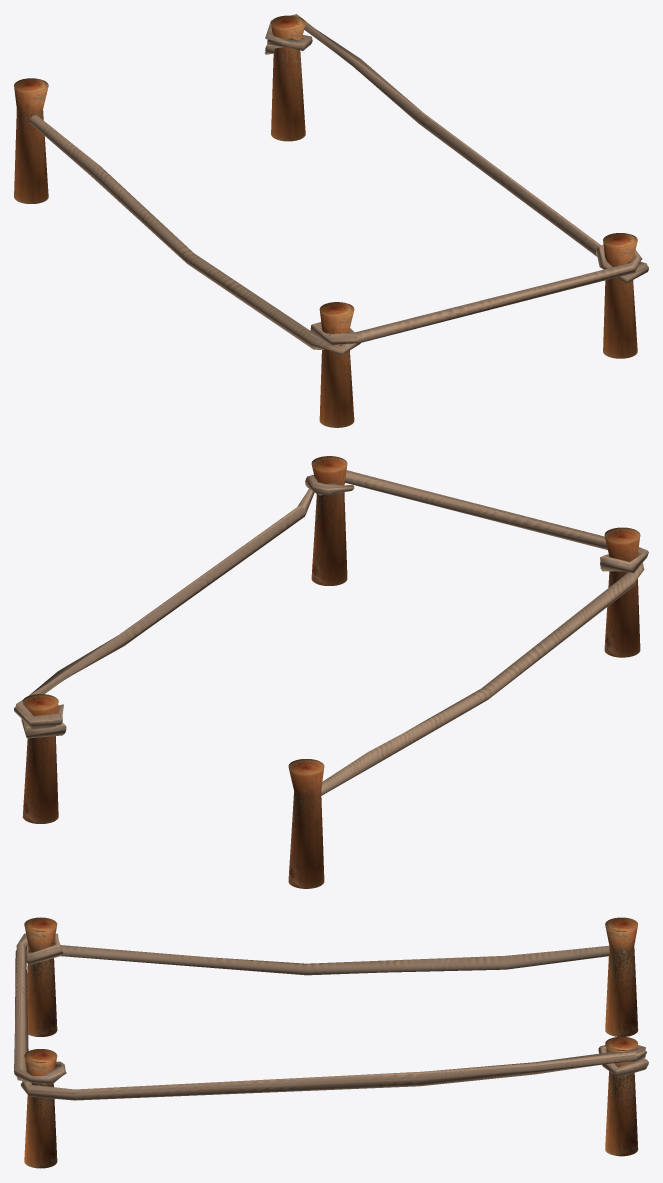
File: Drying Rack.fbx
3 renders of one model, top to bottom at view 1: azimuth 30°, elevation 25°; view 2: azimuth 150°, elevation 25°; view 3: azimuth 270°, elevation 25°, orthographic. The views are drawn at different scales.
Parts seen in each view (by area): view 1: Drying Rake; view 2: Drying Rake; view 3: Drying Rake.
Part boxes in pixels (x1=…): Drying Rake: x1=14, y1=14, x2=648, y2=427; Drying Rake: x1=14, y1=456, x2=648, y2=888; Drying Rake: x1=14, y1=917, x2=648, y2=1168.
Size of the model in its own units: 3.54 by 1.16 by 6.32.
